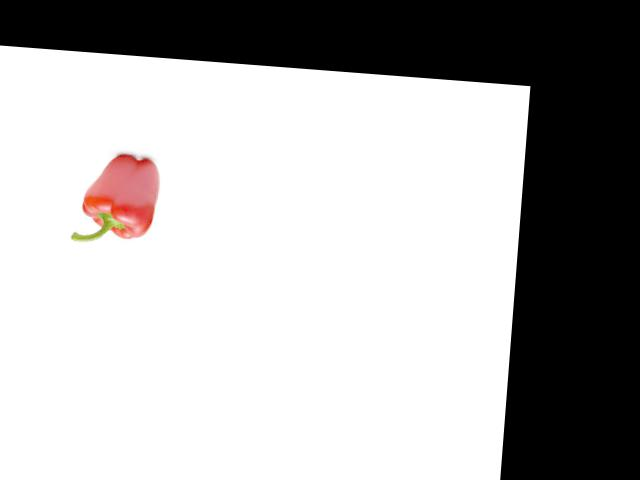bell_pepper: (67, 144, 166, 253)
